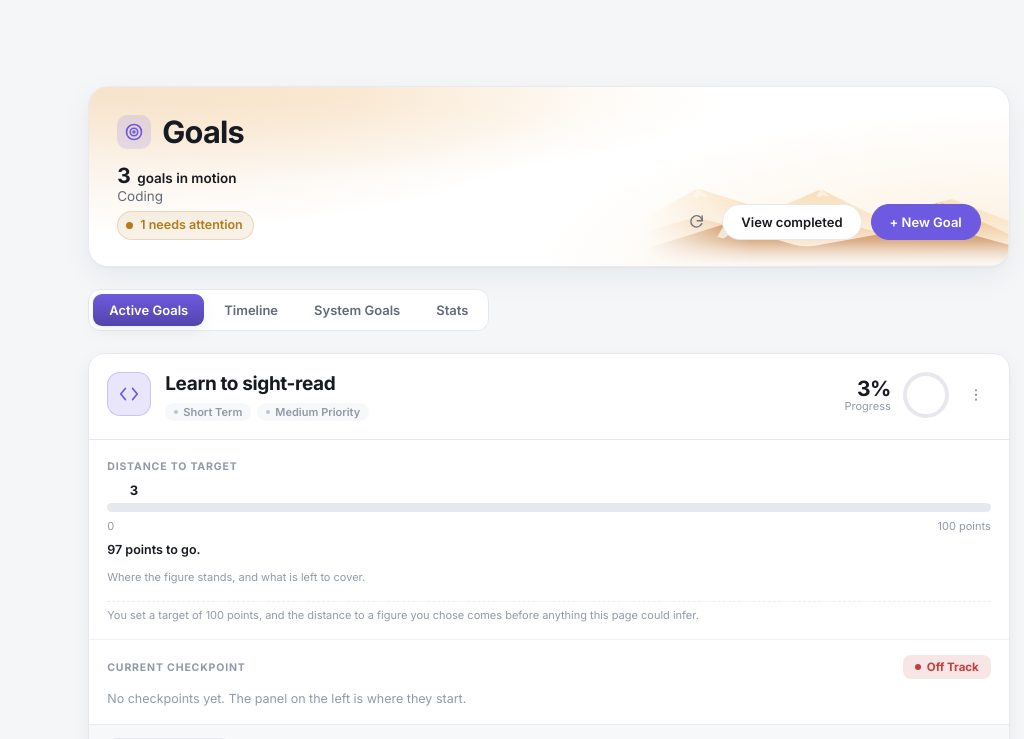
Scenario: the per-goal diagnosis › names what is holding a goal back and what is helping it
What coordinates should you click on to do the following:
click the tab "Stats"
I would click on:
 (452, 310)
Its box is top-left (420, 294), bottom-right (484, 326).
(page scrolled)
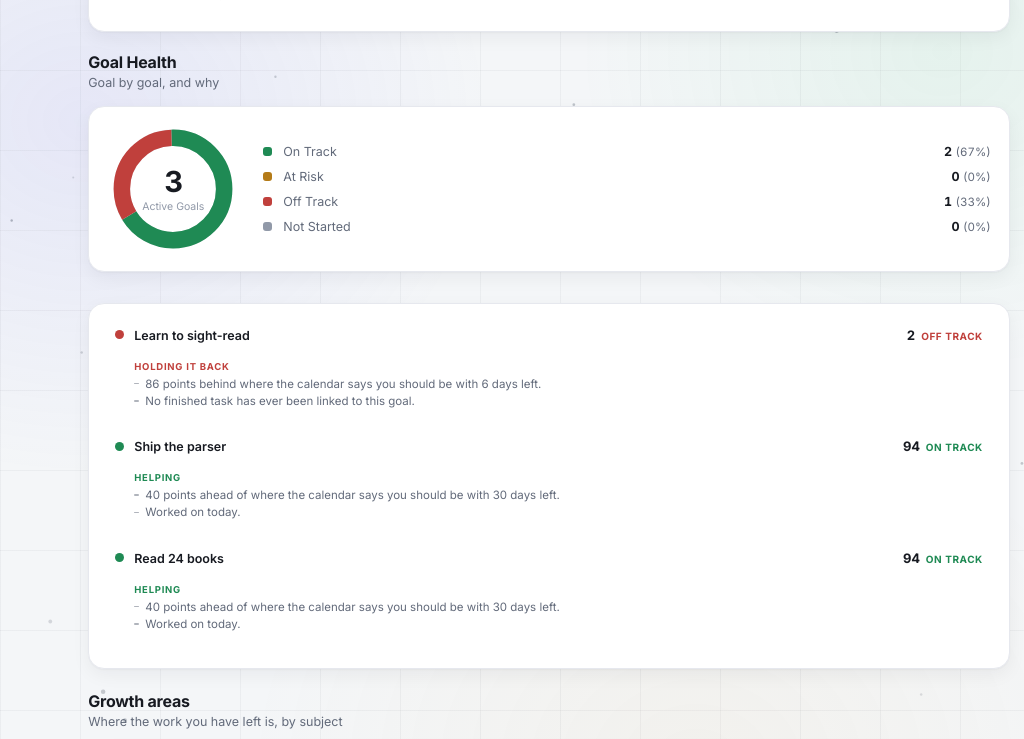
Expected: the heading "Holding it back" is shown, top-left (134, 361), bottom-right (230, 372)
Expected: the list item with class "gx-health-row" shows "points behind where the calendar says", top-left (145, 377), bottom-right (541, 391)
